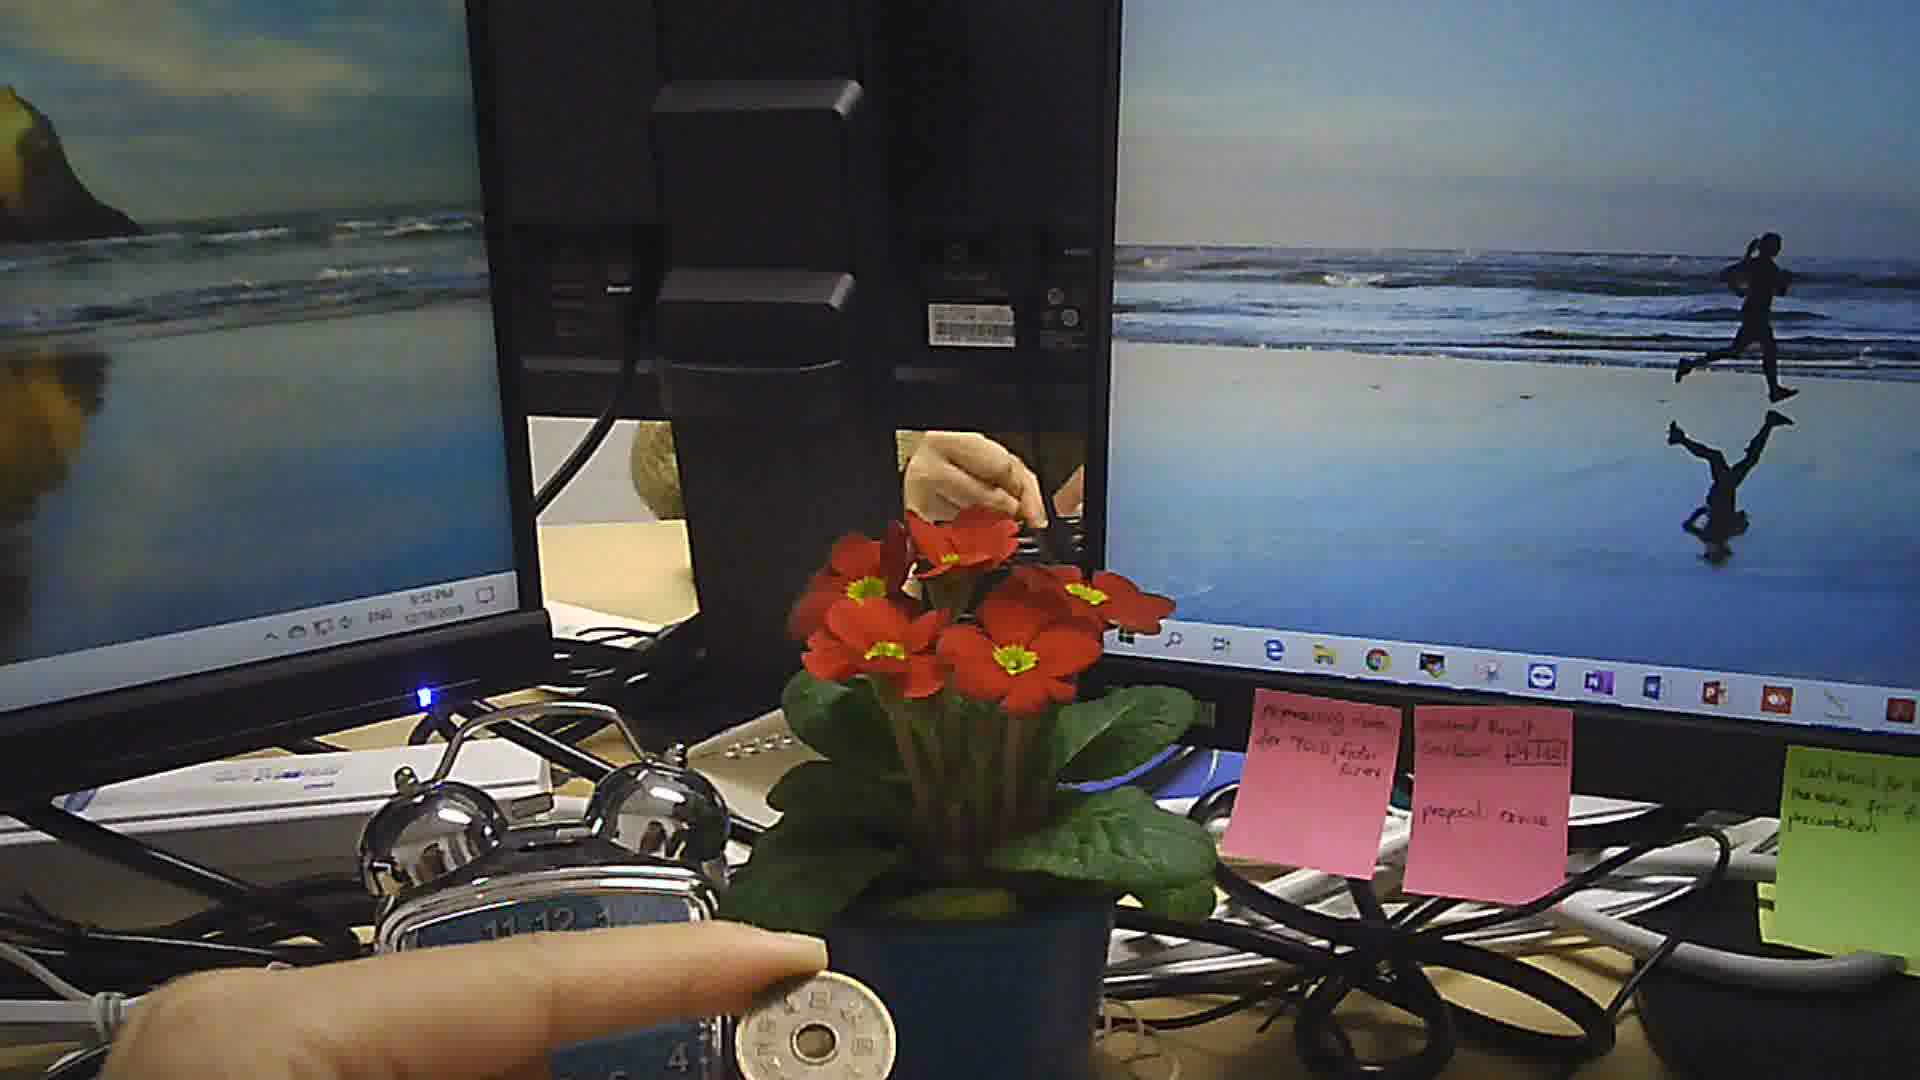5 Yen: (732, 964, 894, 1079)
